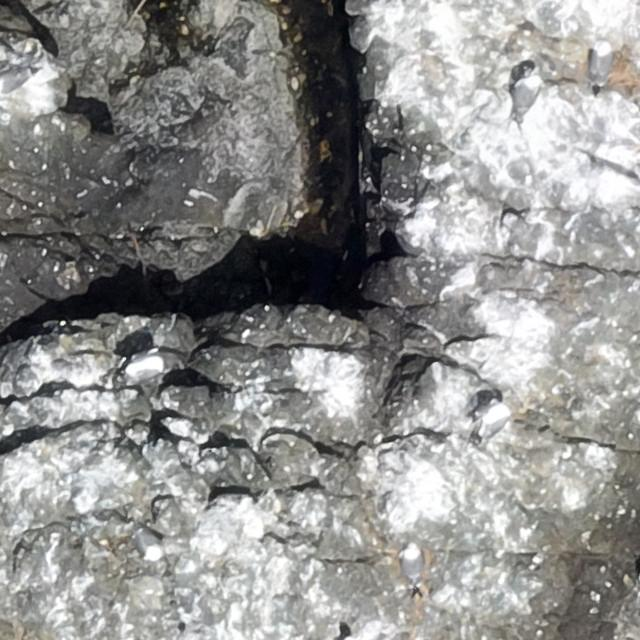umineko: (474, 399, 514, 439), (513, 69, 540, 127), (129, 520, 163, 562), (120, 356, 167, 384), (1, 64, 38, 90), (402, 546, 422, 586), (591, 44, 611, 83)
